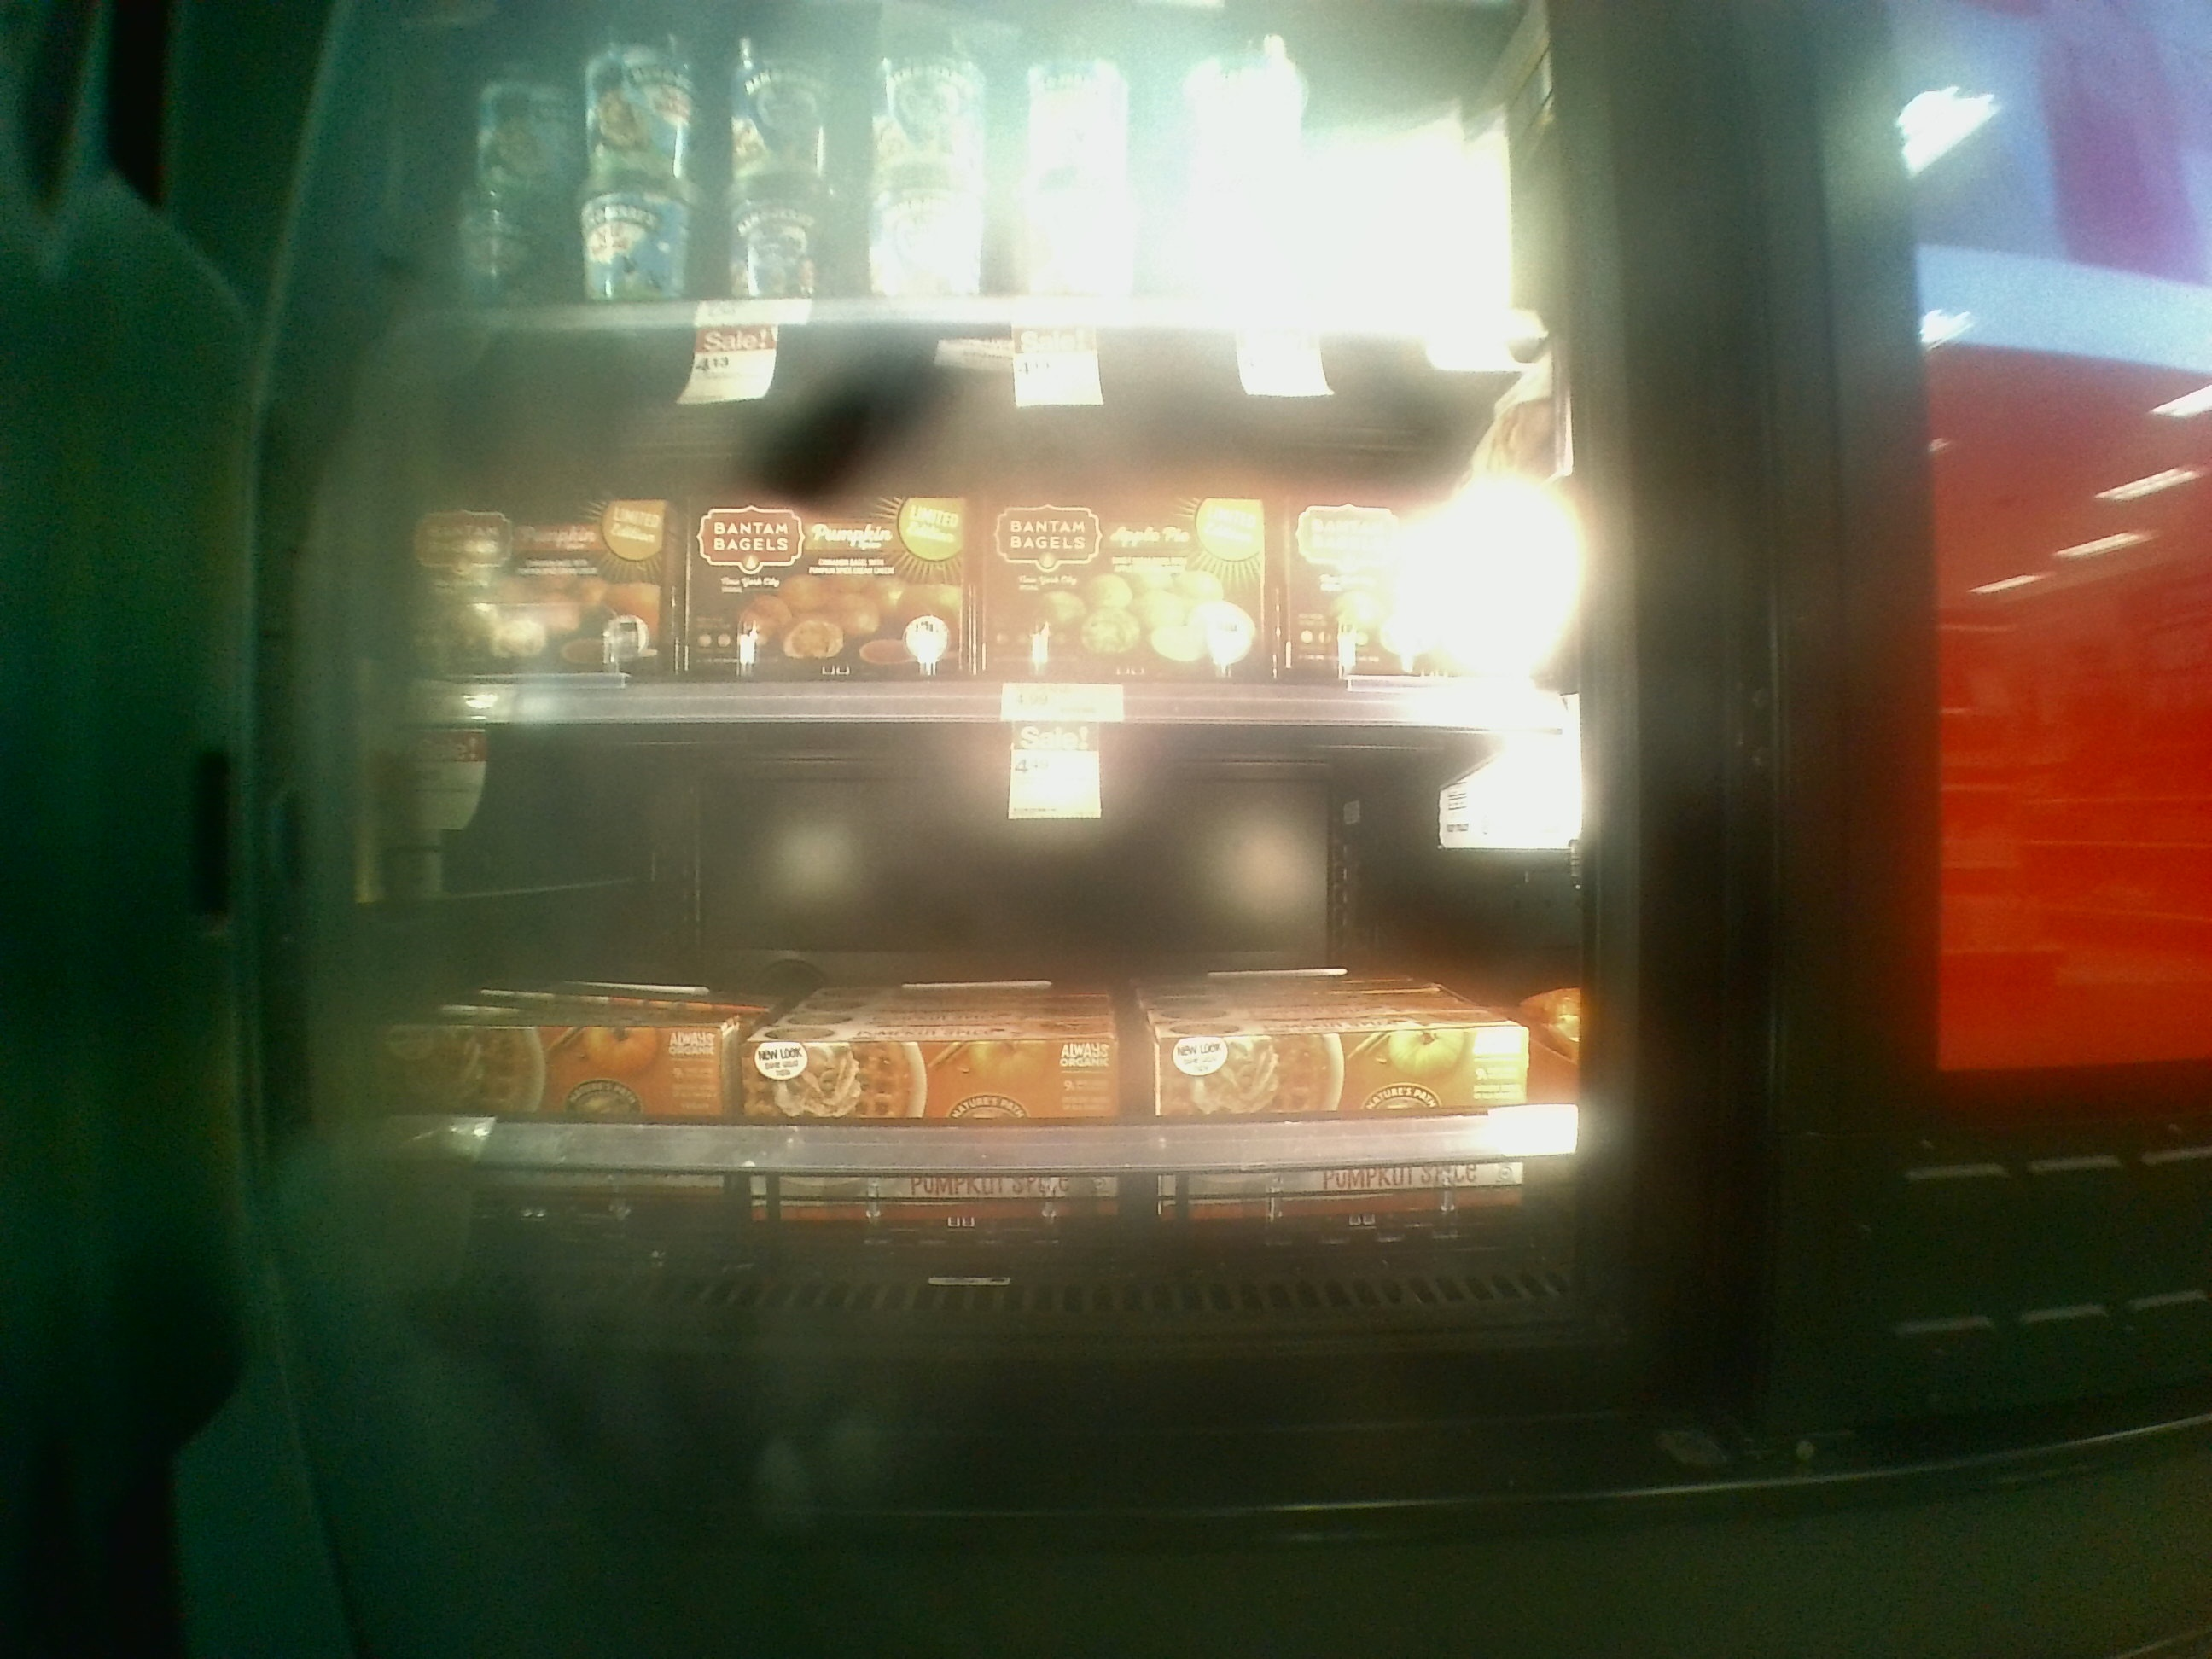shelf: (355, 704, 1655, 1331), (374, 319, 1581, 741)
